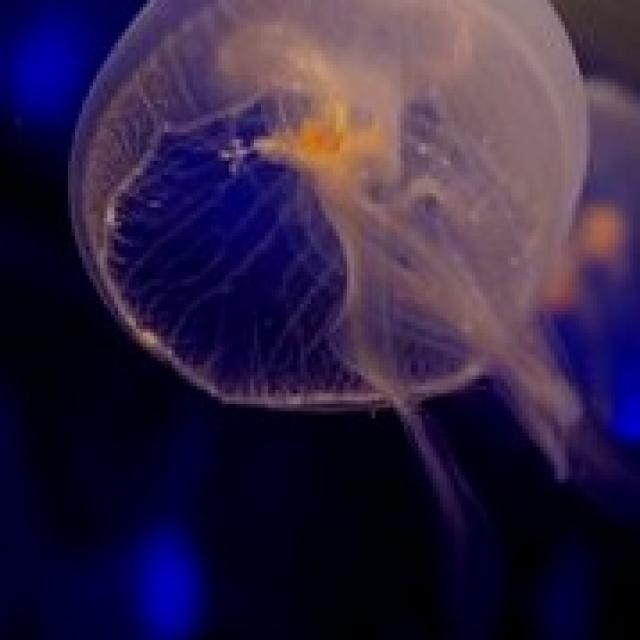Jellyfish: (64, 0, 636, 540)
